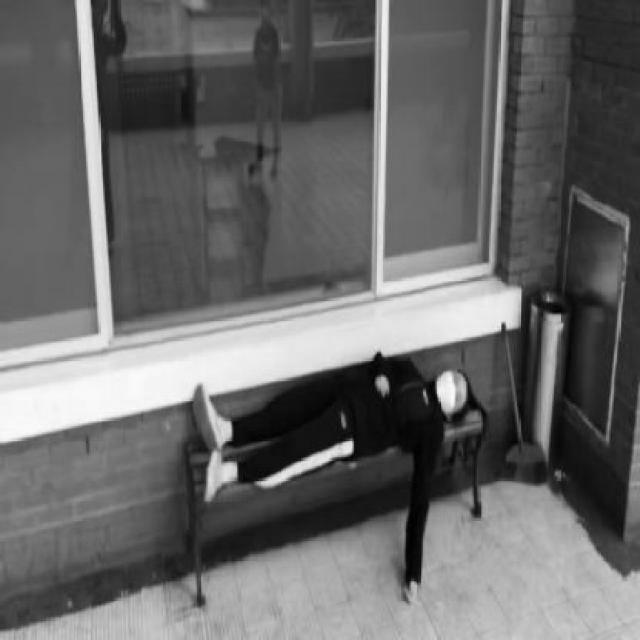person: (192, 348, 474, 598)
